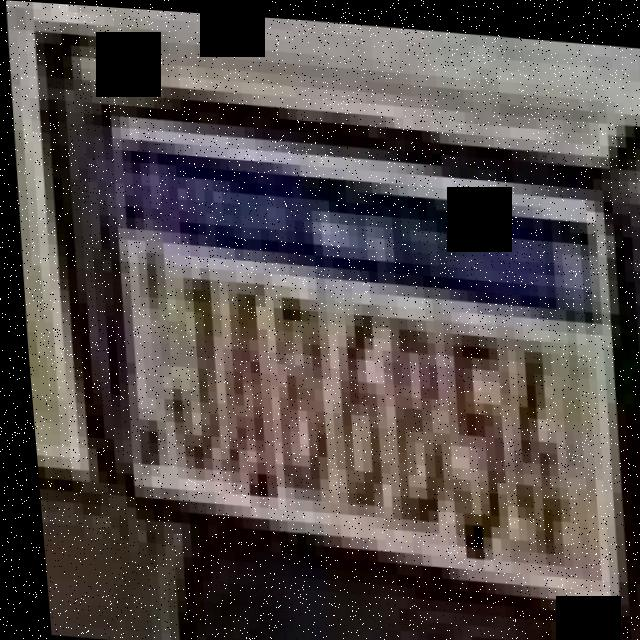4: (490, 328, 585, 567)
E: (424, 313, 524, 567)
F: (313, 298, 401, 509)
H: (246, 284, 344, 500)
J: (138, 262, 224, 473)
